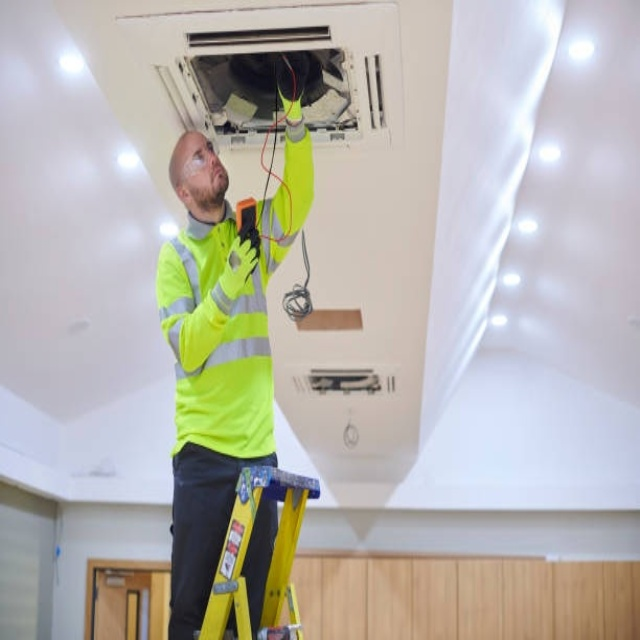Gafas: (178, 141, 219, 182)
Guantes: (215, 238, 259, 308), (277, 72, 306, 136)
Sin_mascara: (203, 157, 229, 193)
